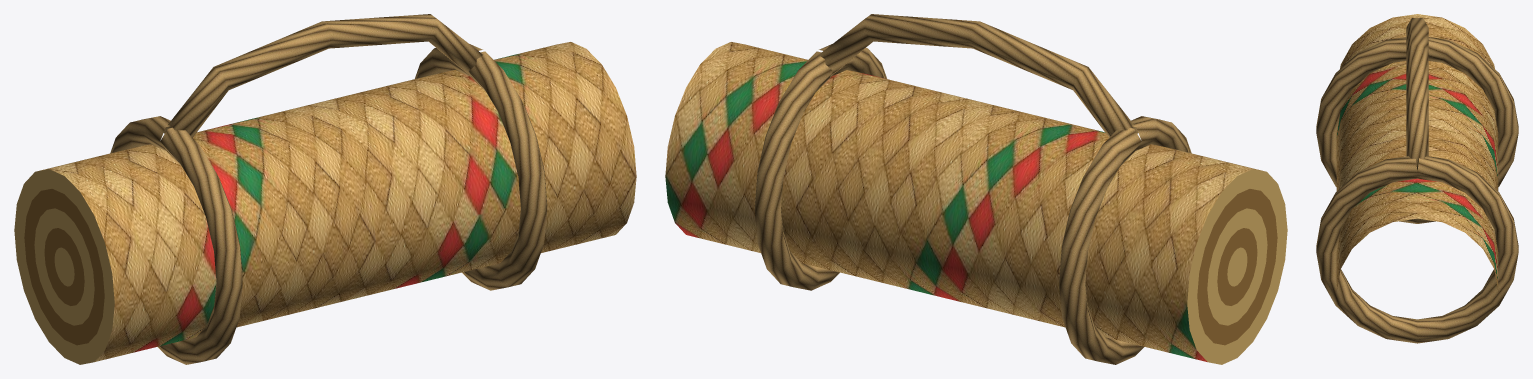
Rendered from mat-roll.glb.
The picture shows the model from 3 angles, left to right: view 1: azimuth 30°, elevation 25°; view 2: azimuth 150°, elevation 25°; view 3: azimuth 270°, elevation 25°; orthographic projection. The views are drawn at different scales.
Visible parts, largest first — view 1: mat.weave, mat.rope, mat.ends; view 2: mat.weave, mat.rope, mat.ends; view 3: mat.rope, mat.weave.
Part boxes in pixels (bbox=[...]): mat.weave: bbox=[39, 42, 636, 361]; mat.rope: bbox=[110, 14, 547, 364]; mat.ends: bbox=[14, 169, 114, 364]; mat.weave: bbox=[665, 42, 1262, 361]; mat.rope: bbox=[754, 14, 1191, 364]; mat.ends: bbox=[1187, 169, 1287, 364]; mat.rope: bbox=[1316, 18, 1518, 343]; mat.weave: bbox=[1336, 14, 1498, 291].
Size of the model in its own units: 1.44 by 0.7743 by 0.6024.
Materials: 3 (2 with a texture image).
